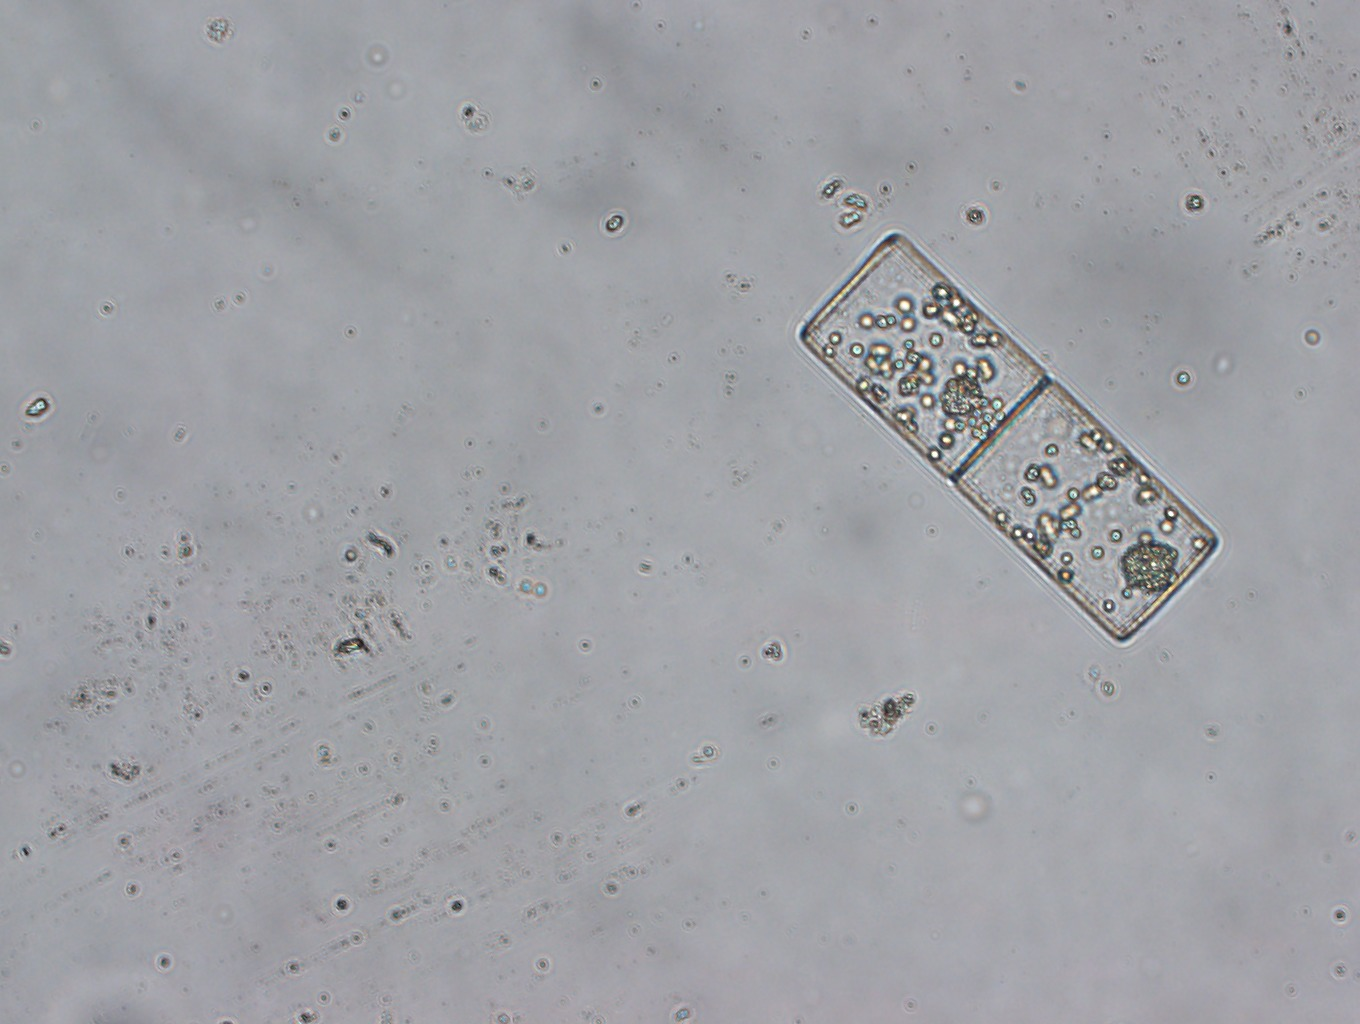guinardia flaccida: (794, 230, 1220, 637)
